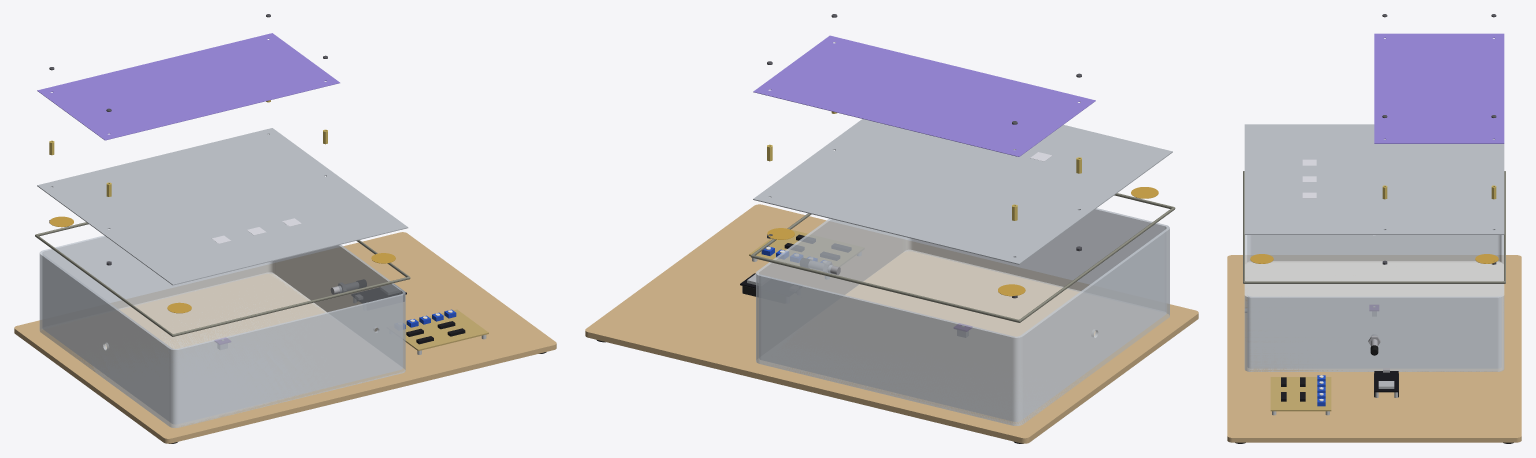
File: hullsense_rig_exploded.glb
3 renders of one model, left to right at view 1: azimuth 30°, elevation 25°; view 2: azimuth 150°, elevation 25°; view 3: azimuth 270°, elevation 25°, orthographic. The views are drawn at different scales.
Visible parts, largest first — view 1: sealed_box_8L, base_board, wall_plate_1mm_Al, bumper_0p5mm_Al, seal_bead_mseal, perfboard, piezo_P1_P4_brass; view 2: sealed_box_8L, base_board, wall_plate_1mm_Al, bumper_0p5mm_Al, seal_bead_mseal, perfboard, piezo_P1_P4_brass; view 3: sealed_box_8L, base_board, wall_plate_1mm_Al, bumper_0p5mm_Al, perfboard, seal_bead_mseal, esp32_board, piezo_P1_P4_brass, foil_patches.
Boxes of the visible parts, x1,y1,x2,y2 form: sealed_box_8L: (39,235,405,428); base_board: (14,232,556,443); wall_plate_1mm_Al: (37,128,408,285); bumper_0p5mm_Al: (37,33,339,140); seal_bead_mseal: (35,222,410,336); perfboard: (403,309,488,350); piezo_P1_P4_brass: (49,216,395,313); sealed_box_8L: (756,208,1169,425); base_board: (585,204,1198,443); wall_plate_1mm_Al: (753,119,1172,264); bumper_0p5mm_Al: (753,35,1095,156); seal_bead_mseal: (750,193,1175,322); perfboard: (749,229,863,266); piezo_P1_P4_brass: (767,187,1158,296); sealed_box_8L: (1244,230,1504,371); base_board: (1227,255,1521,442); wall_plate_1mm_Al: (1244,124,1504,234); bumper_0p5mm_Al: (1374,33,1504,143); perfboard: (1270,377,1331,411); seal_bead_mseal: (1243,171,1505,283); esp32_board: (1374,371,1398,392); piezo_P1_P4_brass: (1250,254,1498,263); foil_patches: (1302,159,1316,198).
Bounding box in the file's own units: 500 × 332 × 340.
